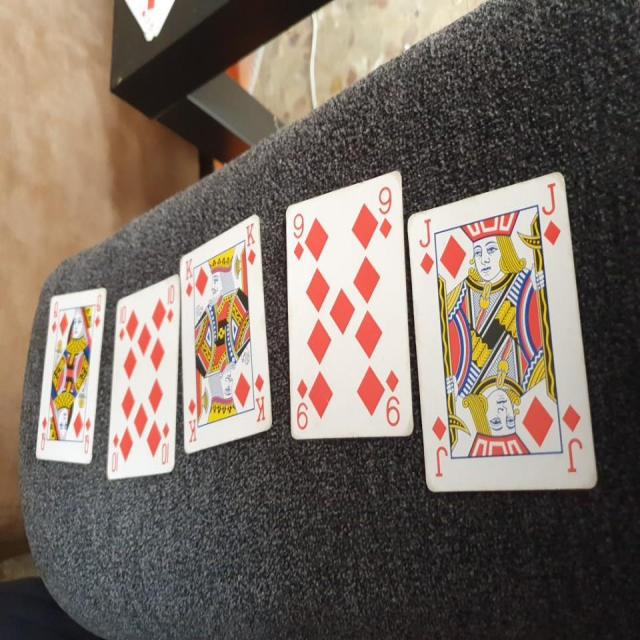10 Diamonds: (107, 272, 179, 479)
9 Diamonds: (286, 169, 415, 438)
J Diamonds: (404, 169, 599, 494)
K Diamonds: (179, 211, 275, 455)
Q Diamonds: (35, 284, 108, 465)
